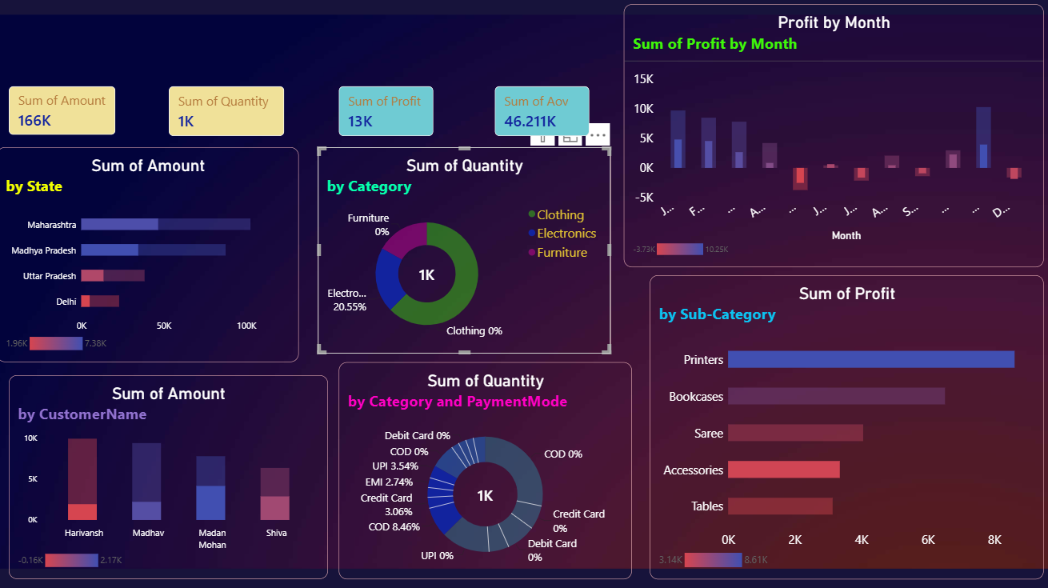

This screenshot's page, from the dashboard's own definition file:
{"tool":"powerbi","page":{"name":"Page 1","canvas":[1920,1080],"ordinal":0},"visuals":[{"type":"columnChart","title":"Profit by Month","fields":{"Category":["Orders.Order Date.Variation.Date Hierarchy.Month"],"Y":["Sum(Details.Profit)"]},"box":[1134.7,16.3,760.1,579.1],"z":1},{"type":"clusteredBarChart","fields":{"Category":["Details.Sub-Category","Details.PaymentMode"],"Y":["Sum(Details.Profit)"]},"box":[1181.7,626.1,713,430.7],"z":2},{"type":"donutChart","fields":{"Category":["Details.Category"],"Y":["Sum(Details.Quantity)"]},"box":[580.9,275.1,530.2,372.8],"z":3},{"type":"donutChart","fields":{"Category":["Details.Category"],"Series":["Details.PaymentMode"],"Y":["Sum(Details.Quantity)"]},"box":[618.9,664.1,530.2,392.7],"z":4},{"type":"clusteredBarChart","fields":{"Category":["Orders.State"],"Y":["Sum(Details.Amount)"]},"box":[0,275.1,546.5,389.1],"z":9},{"type":"clusteredColumnChart","fields":{"Category":["Orders.CustomerName"],"Y":["Sum(Details.Amount)"]},"box":[21.7,687.7,577.3,369.2],"z":10},{"type":"cardVisual","fields":{"Data":["Sum(Details.Amount)"]},"box":[21.7,164.7,193.6,88.7],"z":11},{"type":"cardVisual","fields":{"Data":["Sum(Details.Quantity)"]},"box":[311.3,164.7,209.9,90.5],"z":12},{"type":"cardVisual","fields":{"Data":["Sum(Details.Profit)"]},"box":[618.9,164.7,171.9,90.5],"z":13},{"type":"cardVisual","fields":{"Data":["Sum(Details.Aov)"]},"box":[901.2,164.7,171.9,90.5],"z":14},{"type":"textbox","box":[21.7,14.5,1051.4,105],"z":15}]}

Visuals, with their boxes in screenshot pixels (x1, y1, x2, y2), scaled from the page's 1920x1080 canvas onto the 1048x588 screenshot:
"Profit by Month" columnChart: (x1=619, y1=9, x2=1034, y2=324)
clusteredBarChart - Details.Sub-Category x Details.PaymentMode: (x1=645, y1=341, x2=1034, y2=575)
donutChart - Details.Category x Sum(Details.Quantity): (x1=317, y1=150, x2=606, y2=353)
donutChart - Details.Category x Details.PaymentMode: (x1=338, y1=362, x2=627, y2=575)
clusteredBarChart - Orders.State x Sum(Details.Amount): (x1=0, y1=150, x2=298, y2=362)
clusteredColumnChart - Orders.CustomerName x Sum(Details.Amount): (x1=12, y1=374, x2=327, y2=575)
cardVisual - Sum(Details.Amount): (x1=12, y1=90, x2=118, y2=138)
cardVisual - Sum(Details.Quantity): (x1=170, y1=90, x2=284, y2=139)
cardVisual - Sum(Details.Profit): (x1=338, y1=90, x2=432, y2=139)
cardVisual - Sum(Details.Aov): (x1=492, y1=90, x2=586, y2=139)
textbox: (x1=12, y1=8, x2=586, y2=65)
